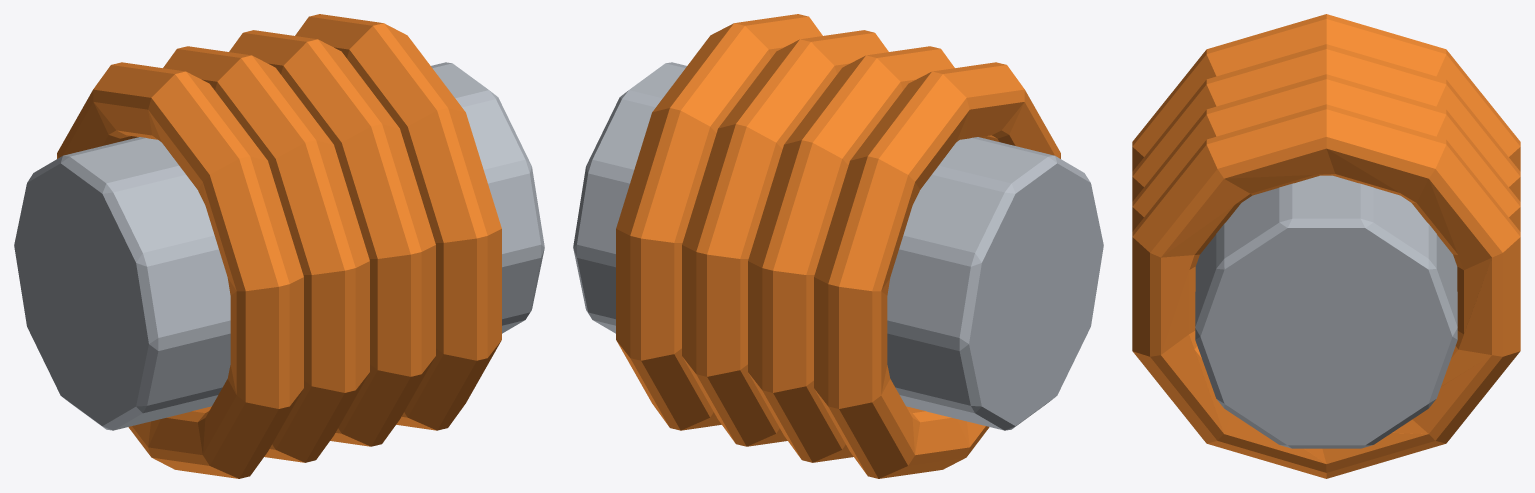
The model's file is electromagnet.glb.
3 renders of one model, left to right at view 1: azimuth 30°, elevation 25°; view 2: azimuth 150°, elevation 25°; view 3: azimuth 270°, elevation 25°, orthographic. The views are drawn at different scales.
Parts seen in each view (by area): view 1: electromagnet; view 2: electromagnet; view 3: electromagnet.
Part boxes in pixels (left/top/right/bottom): electromagnet: left=14, top=14, right=544, bottom=478; electromagnet: left=573, top=14, right=1103, bottom=478; electromagnet: left=1132, top=14, right=1520, bottom=478.
Size of the model in its own units: 0.24 by 0.2292 by 0.218.
